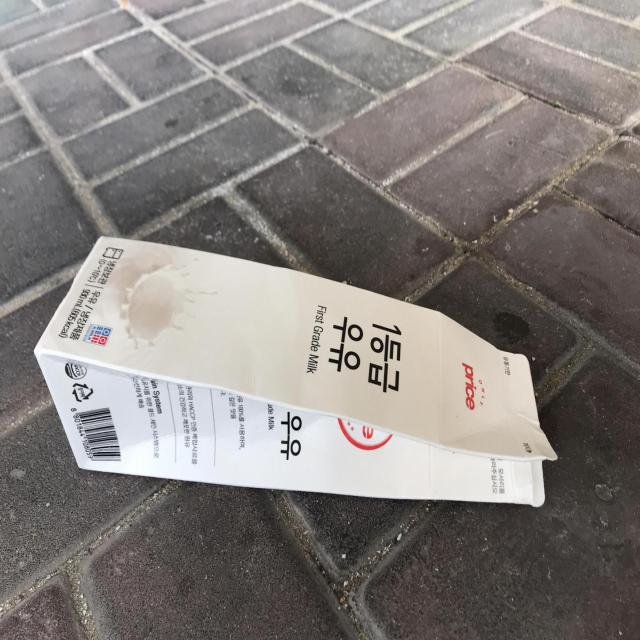paperpack: (34, 236, 557, 507)
